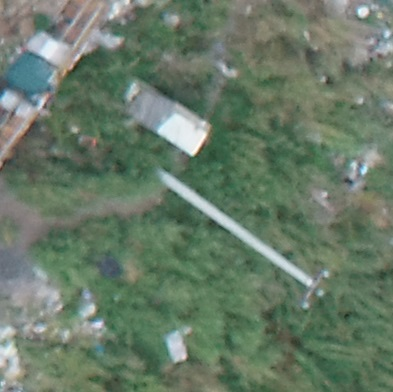opora: (156, 164, 332, 311)
